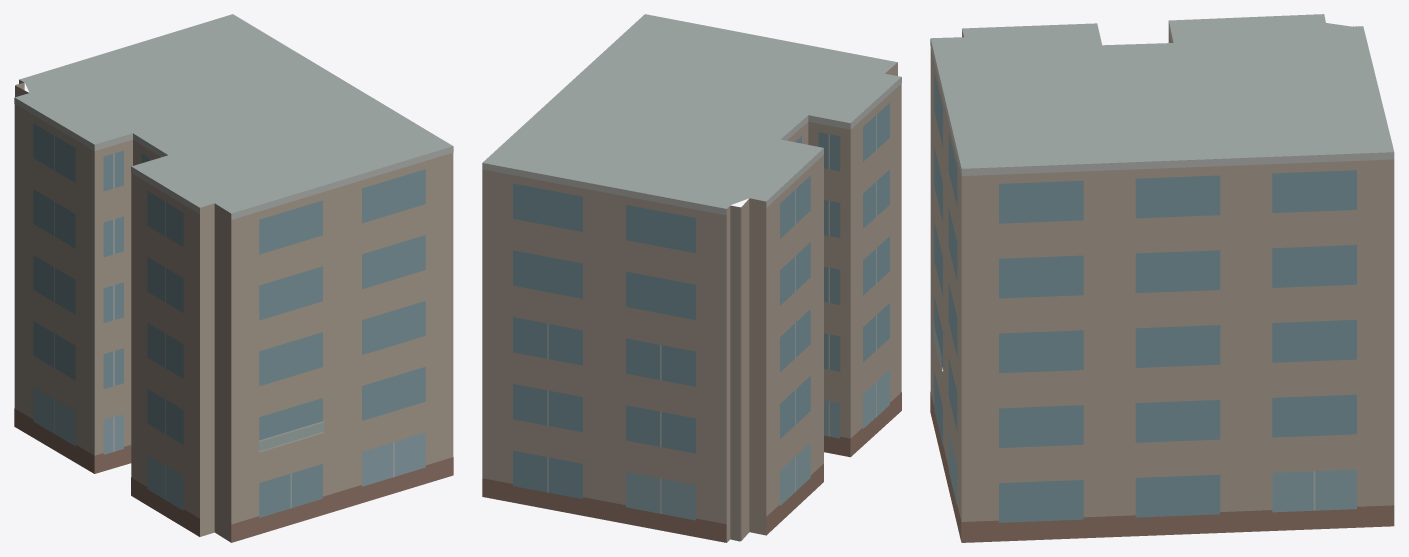
The model's file is survey-upis-32659572.glb.
3 renders of one model, left to right at view 1: azimuth 30°, elevation 25°; view 2: azimuth 150°, elevation 25°; view 3: azimuth 270°, elevation 25°, orthographic. The views are drawn at different scales.
Visible parts, largest first — view 1: survey-upis-32659572.tmp; view 2: survey-upis-32659572.tmp; view 3: survey-upis-32659572.tmp.
Part boxes in pixels (left/top/right/bottom): survey-upis-32659572.tmp: left=14, top=14, right=453, bottom=542; survey-upis-32659572.tmp: left=482, top=14, right=901, bottom=542; survey-upis-32659572.tmp: left=930, top=14, right=1394, bottom=542.
Bounding box in the file's own units: 11.1 × 12.5 × 14.06.
